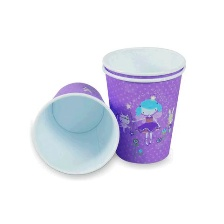paper_cup: (95, 42, 190, 170), (23, 75, 123, 180)
